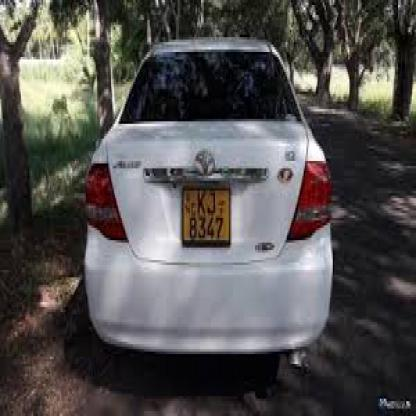car: (80, 35, 337, 376)
